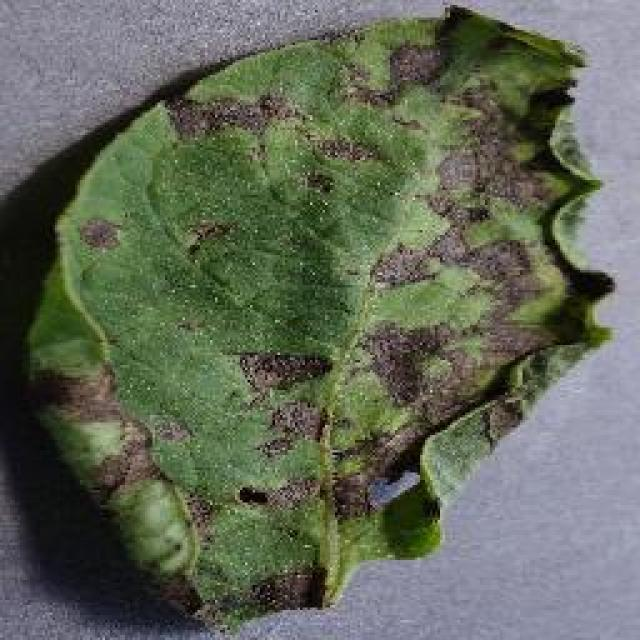early_blight: (18, 3, 618, 635)
